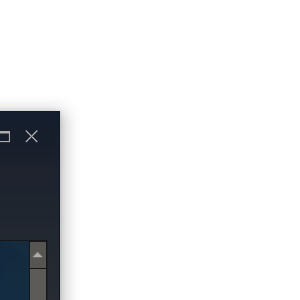close: (15, 121, 47, 150)
